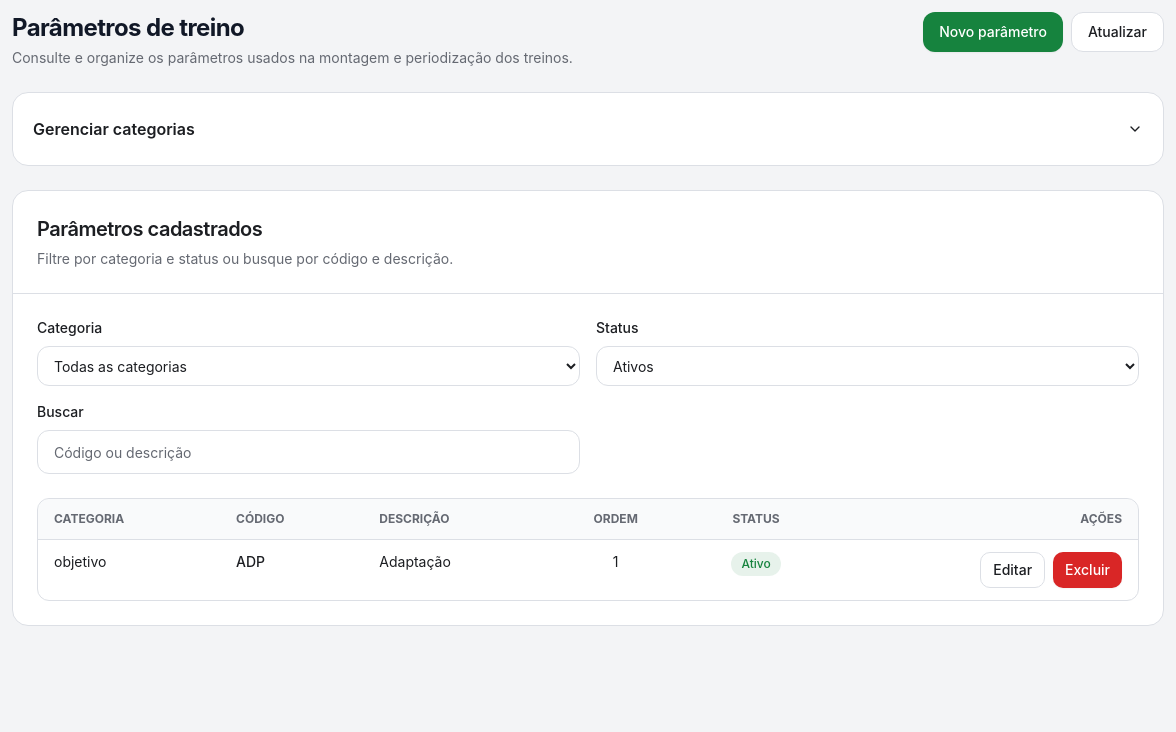
Test: SettingsParameters › edita somente campos permitidos e permite cancelar sem persistir
The width and height of the screenshot is (1176, 732).
Expected: the table is shown, 38,499 -> 1138,600
Step 1. Click the button "Editar" → click(1013, 570), box 980,552 -> 1045,588
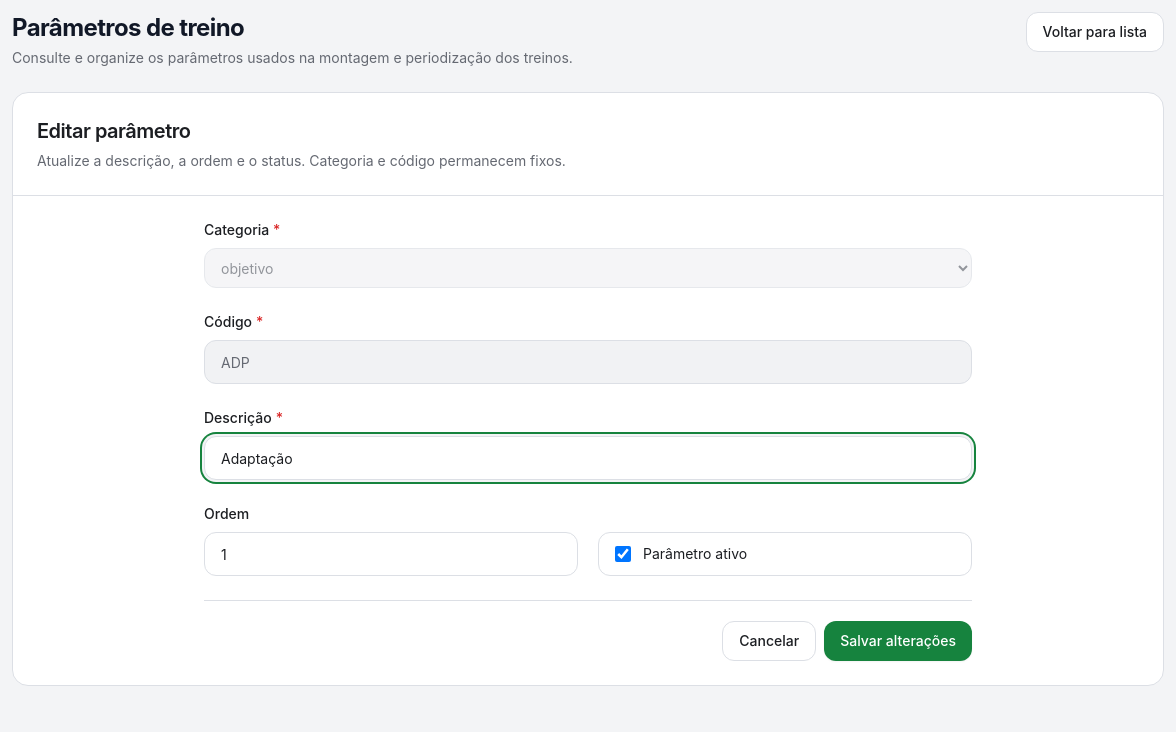
Expected: the dropdown labelled "Categoria *" is disabled, 204,248 -> 972,288
Expected: the field labelled "Código*" is disabled, 204,340 -> 972,384
Step 2. Replace the text in the field labelled "Descrição*" with "Alteração não salva" → (588, 458), box 204,436 -> 972,480
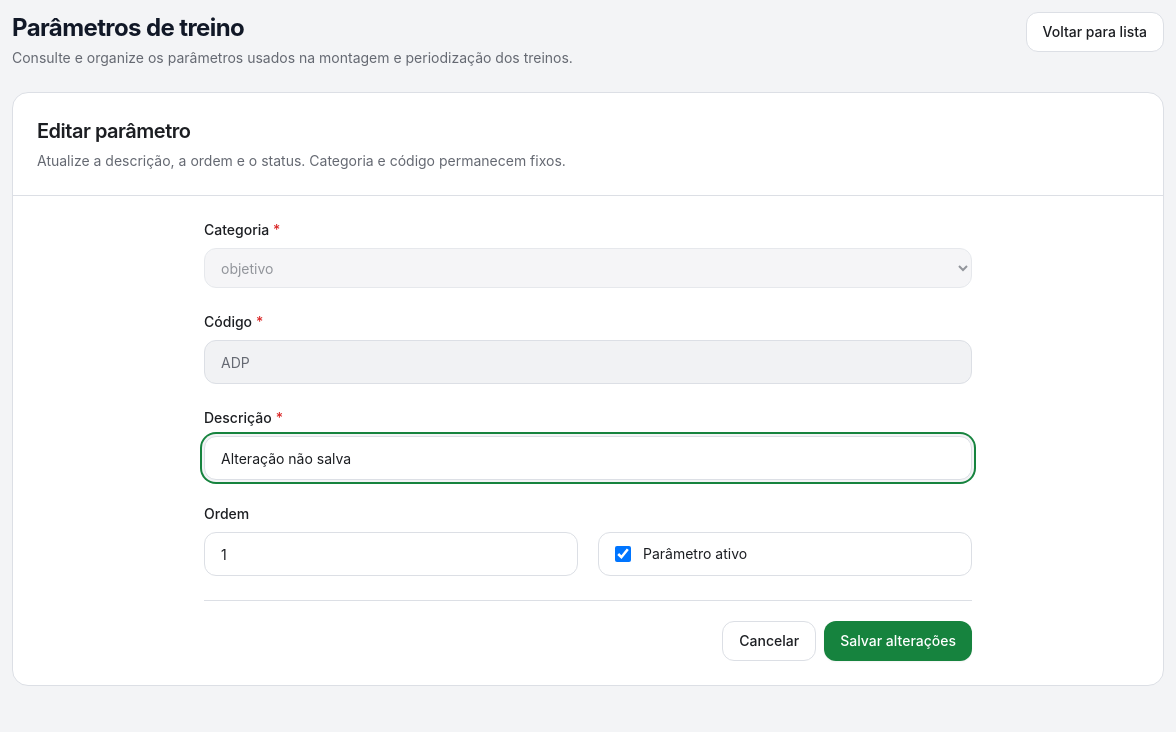
Step 3. Click the button "Cancelar" → click(769, 641), box 722,621 -> 816,661
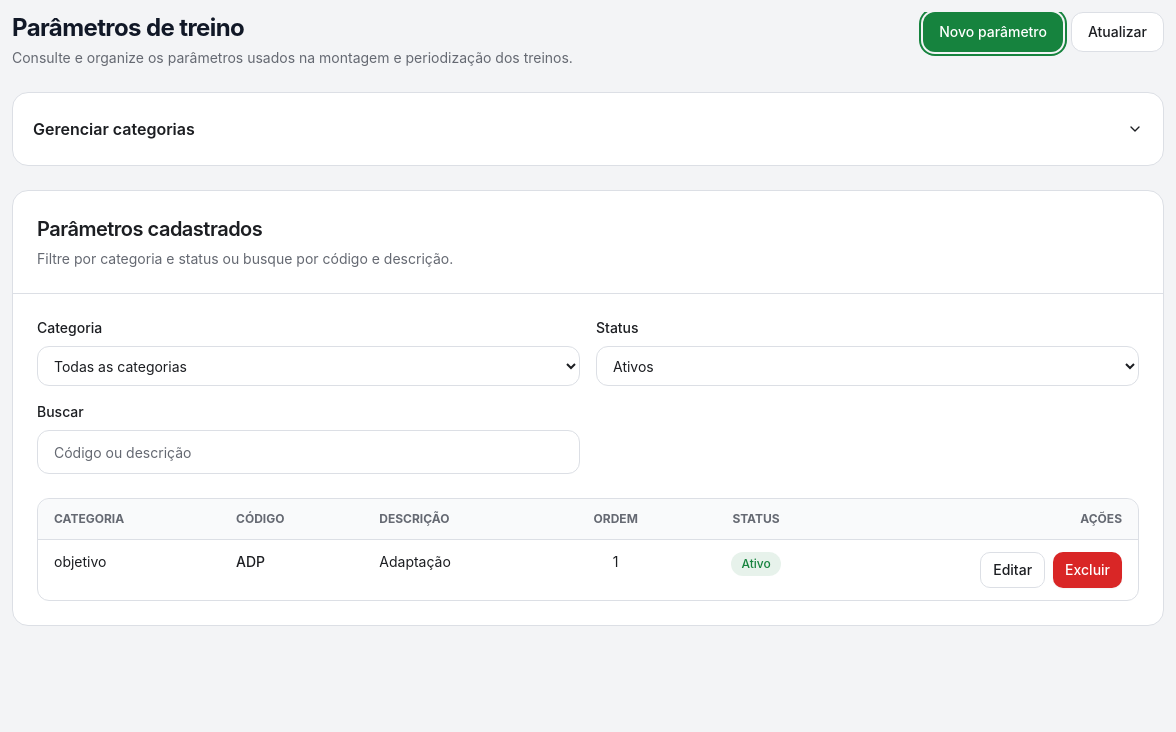
Expected: the table is shown, 38,499 -> 1138,600
